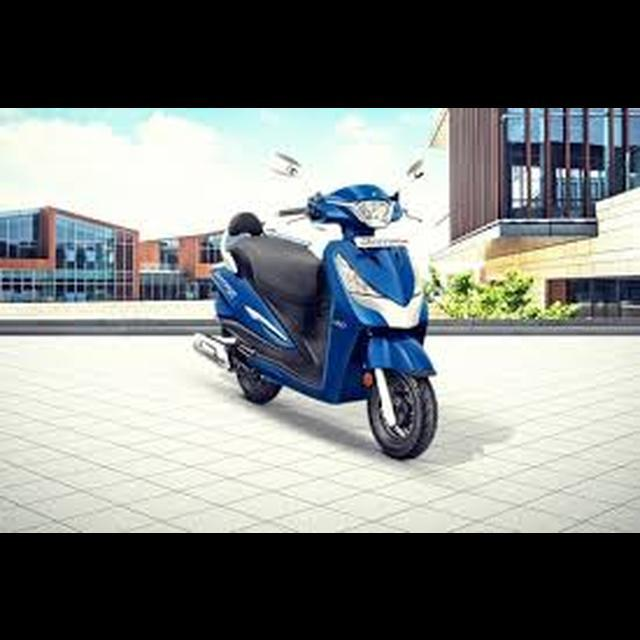motorcycle: (187, 139, 444, 469)
